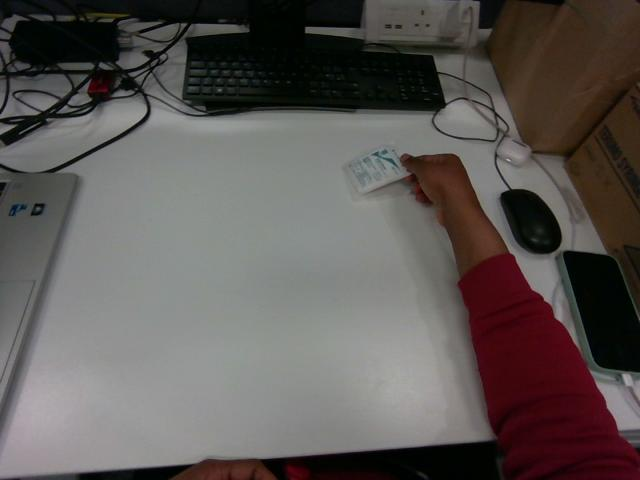gauze: (344, 145, 410, 194)
